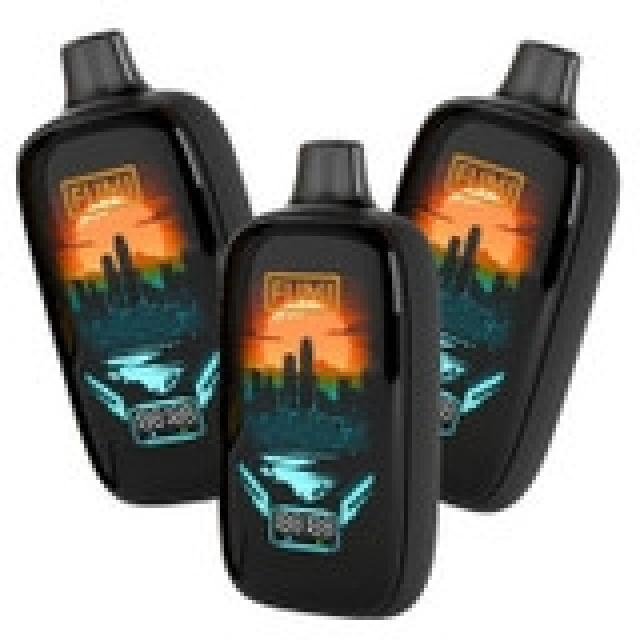Vapes: (12, 24, 620, 616)
